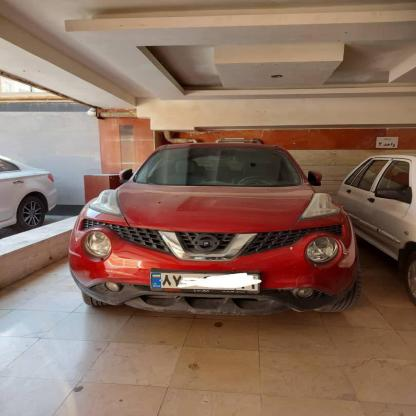Car: (70, 128, 368, 322), (349, 136, 416, 312), (0, 161, 67, 246)
